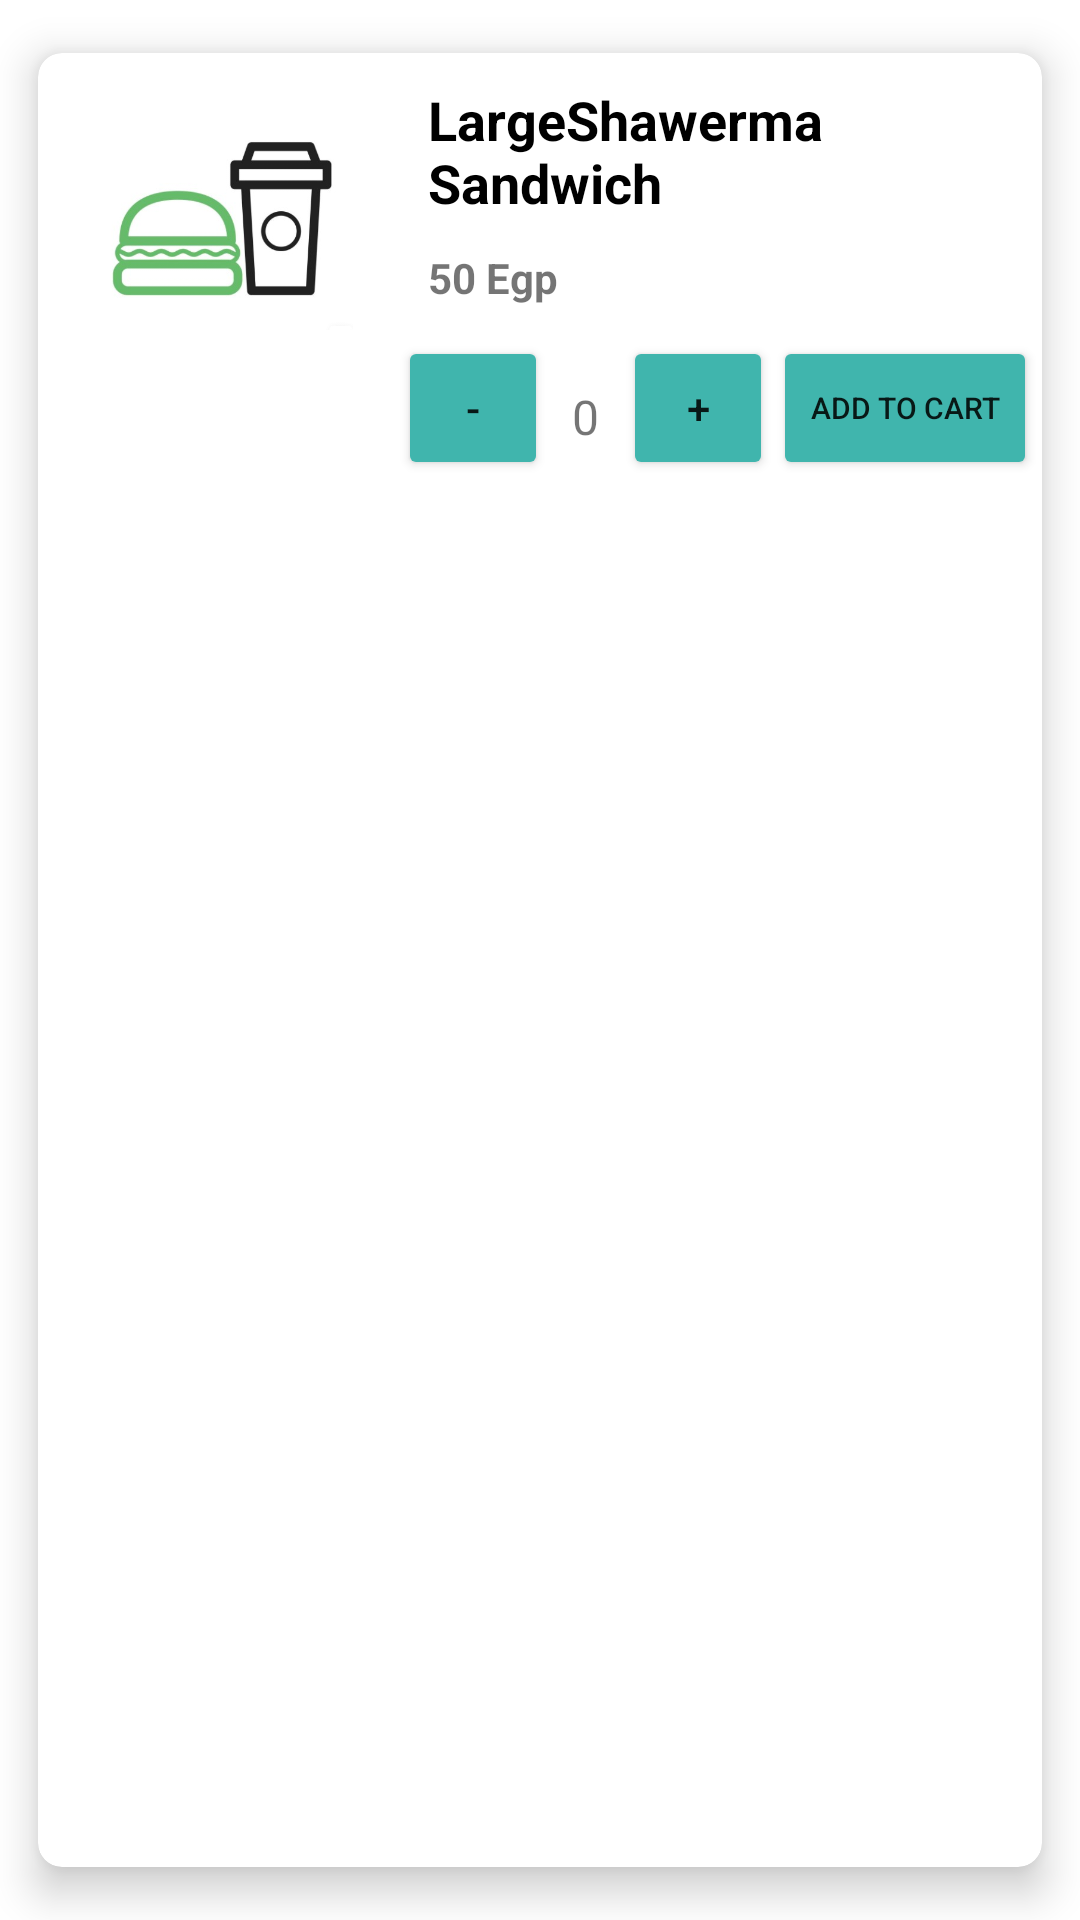

Point at icon controls on the screen. Image size 1080px×1920px, points as point (x, y).
menuitem: point (222, 219)
